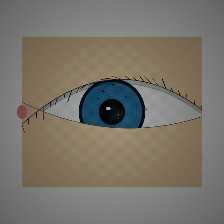hemorrhage_spot: (76, 73, 152, 134)
